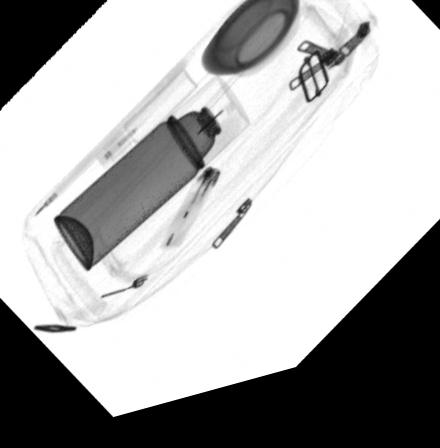Lighter: (159, 176, 223, 257)
Sprayer: (53, 86, 252, 276)
